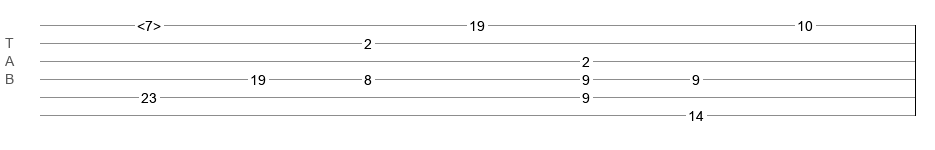10: (797, 18, 813, 28)
14: (688, 108, 704, 118)
19: (250, 72, 266, 82), (469, 18, 485, 28)
2: (364, 36, 372, 46), (582, 54, 590, 64)
23: (141, 90, 157, 100)
8: (364, 72, 372, 82)
9: (582, 90, 590, 100), (582, 72, 590, 82), (692, 72, 700, 82)
harmonic: (137, 18, 161, 28)
